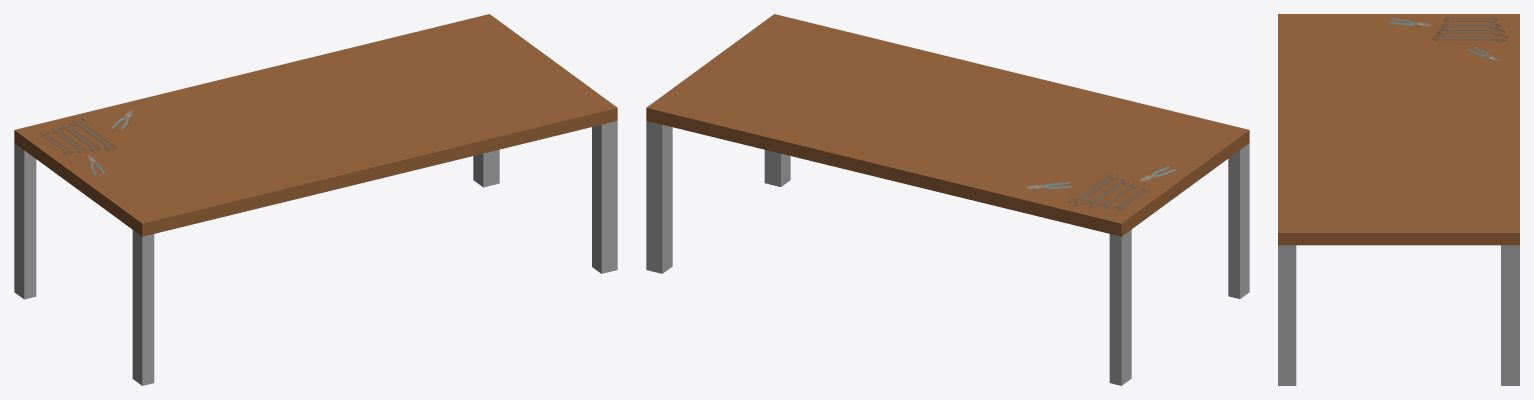
File: normalerTisch.glb
3 views of the same model, side by side, from view 1: azimuth 30°, elevation 25°; view 2: azimuth 150°, elevation 25°; view 3: azimuth 270°, elevation 25° (orthographic). The views are drawn at different scales.
Parts seen in each view (by area): view 1: Cube; view 2: Cube; view 3: Cube, 13075_Open_End_wrench_v2_l3.003, 13075_Open_End_wrench_v2_l3.002.
Boxes of the visible parts, box(x1,y1,x2,y2) form: Cube: box(14, 14, 617, 385); Cube: box(646, 14, 1249, 385); Cube: box(1278, 14, 1519, 385); 13075_Open_End_wrench_v2_l3.003: box(1432, 34, 1508, 41); 13075_Open_End_wrench_v2_l3.002: box(1436, 28, 1504, 35).
Size of the model in its own units: 7.85 by 2.6 by 3.67.
5 materials, 1 textured.
